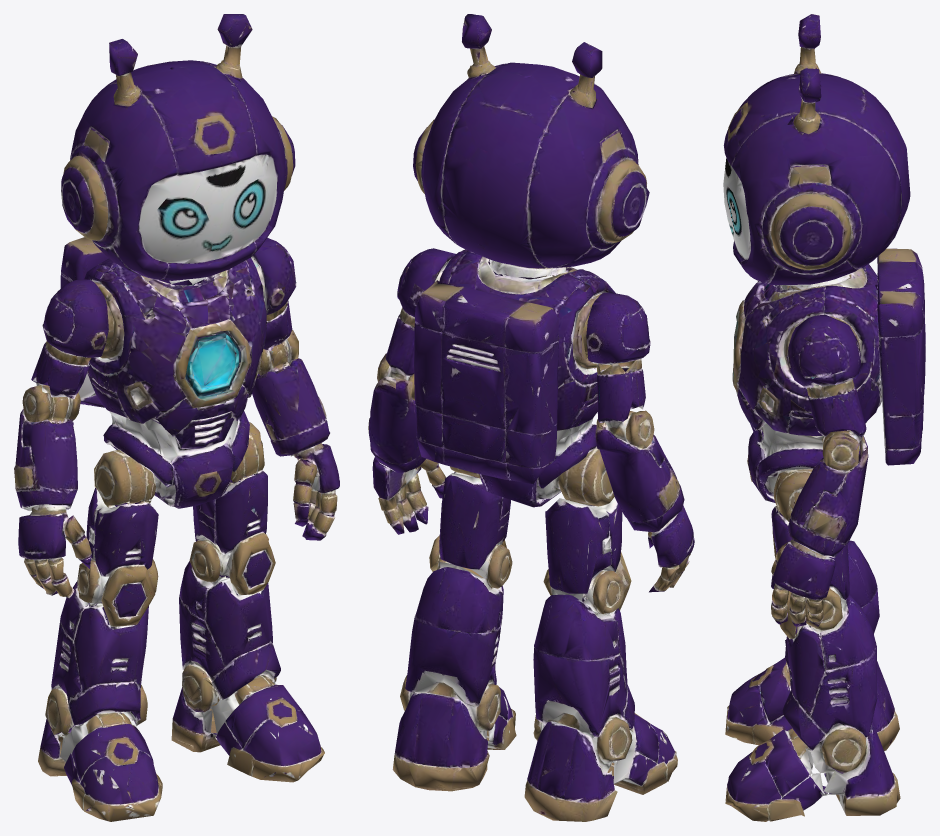
File: hex.glb
3 renders of one model, left to right at view 1: azimuth 30°, elevation 25°; view 2: azimuth 150°, elevation 25°; view 3: azimuth 270°, elevation 25°, orthographic. The views are drawn at different scales.
Parts seen in each view (by area): view 1: head, body, base-r, base-l, section-l, section-r; view 2: body, head, base-l, base-r, section-l, section-r; view 3: head, body, base-r, section-r, base-l.
Boxes of the visible parts, x1=… form: head: x1=61, y1=14, x2=295, y2=280; body: x1=60, y1=237, x2=266, y2=508; base-r: x1=171, y1=470, x2=324, y2=782; base-l: x1=38, y1=487, x2=162, y2=821; section-l: x1=14, y1=279, x2=108, y2=598; section-r: x1=251, y1=237, x2=339, y2=540; body: x1=414, y1=249, x2=615, y2=507; head: x1=413, y1=14, x2=649, y2=268; base-l: x1=524, y1=497, x2=677, y2=821; base-r: x1=392, y1=472, x2=516, y2=791; section-l: x1=582, y1=292, x2=694, y2=592; section-r: x1=368, y1=248, x2=455, y2=534; head: x1=723, y1=14, x2=910, y2=284; body: x1=732, y1=248, x2=925, y2=521; base-r: x1=725, y1=506, x2=900, y2=821; section-r: x1=771, y1=315, x2=868, y2=626; base-l: x1=725, y1=530, x2=899, y2=750.
Bounding box in the file's own units: 1.65 × 3.8 × 0.958.
18 materials, 18 textured.
